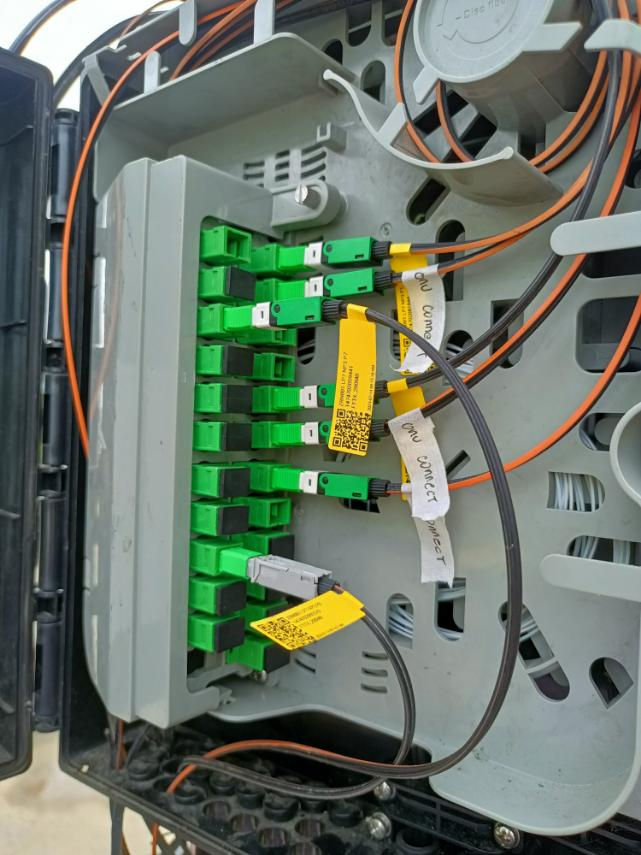no dust cap: (225, 227, 252, 263), (272, 315, 297, 345), (271, 354, 295, 382), (270, 500, 289, 527)
no port: (185, 640, 226, 680)
occupied: (217, 548, 337, 610), (278, 266, 400, 314), (224, 294, 346, 338), (274, 465, 391, 506), (278, 235, 392, 277), (274, 415, 389, 448), (274, 379, 390, 410)
vacant: (216, 615, 245, 653), (227, 266, 257, 301), (218, 584, 248, 615), (219, 505, 248, 535), (265, 640, 290, 674), (225, 347, 254, 376), (222, 469, 251, 497), (270, 535, 296, 566), (225, 385, 254, 412), (265, 605, 289, 637), (267, 570, 291, 601), (225, 424, 252, 449)
